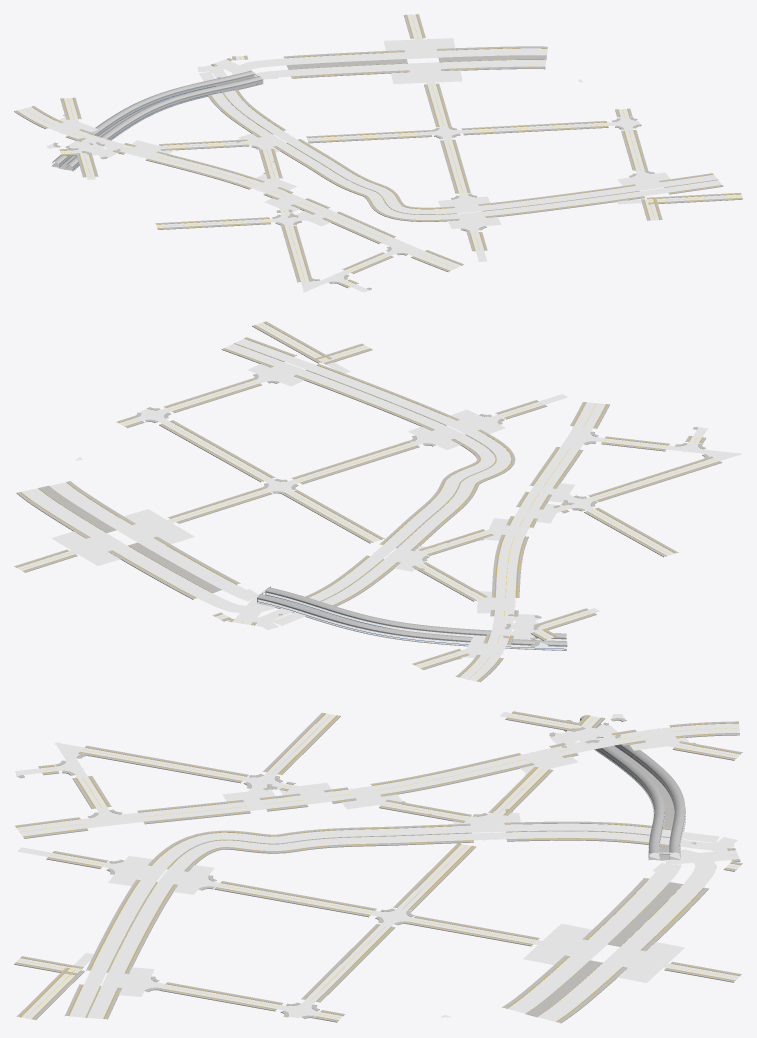
The model's file is roads_1_-1.gltf.
3 views of the same model, one above another, from view 1: azimuth 30°, elevation 25°; view 2: azimuth 150°, elevation 25°; view 3: azimuth 270°, elevation 25° (orthographic). The views are drawn at different scales.
Parts seen in each view (by area): view 1: roads_1_-1_SH_wet_asphalt, roads_1_-1_SH_sidewalk, roads_1_-1_SH_kerb, roads_1_-1_Road_Tactile_Strip, roads_1_-1_Road_Tunnel_Dark, roads_1_-1_SH_road_marking_white, roads_1_-1_Road_Tunnel_Enamel, roads_1_-1_SH_road_marking_yellow; view 2: roads_1_-1_SH_wet_asphalt, roads_1_-1_SH_sidewalk, roads_1_-1_SH_kerb, roads_1_-1_Road_Tactile_Strip, roads_1_-1_Road_Tunnel_Dark, roads_1_-1_Road_Tunnel_Enamel, roads_1_-1_SH_road_marking_white, roads_1_-1_SH_road_marking_yellow; view 3: roads_1_-1_SH_wet_asphalt, roads_1_-1_SH_sidewalk, roads_1_-1_SH_kerb, roads_1_-1_Road_Tactile_Strip, roads_1_-1_Road_Tunnel_Dark, roads_1_-1_SH_road_marking_white, roads_1_-1_SH_road_marking_yellow, roads_1_-1_Road_Tunnel_Enamel.
Part boxes in pixels (bbox=[...]): roads_1_-1_SH_wet_asphalt: bbox=[17, 14, 742, 292]; roads_1_-1_SH_sidewalk: bbox=[14, 14, 742, 289]; roads_1_-1_SH_kerb: bbox=[18, 14, 742, 289]; roads_1_-1_Road_Tactile_Strip: bbox=[16, 14, 742, 286]; roads_1_-1_Road_Tunnel_Dark: bbox=[52, 70, 262, 170]; roads_1_-1_SH_road_marking_white: bbox=[21, 15, 741, 292]; roads_1_-1_Road_Tunnel_Enamel: bbox=[52, 75, 262, 170]; roads_1_-1_SH_road_marking_yellow: bbox=[25, 15, 740, 285]; roads_1_-1_SH_wet_asphalt: bbox=[17, 322, 741, 681]; roads_1_-1_SH_sidewalk: bbox=[14, 321, 722, 682]; roads_1_-1_SH_kerb: bbox=[16, 322, 719, 681]; roads_1_-1_Road_Tactile_Strip: bbox=[16, 322, 719, 681]; roads_1_-1_Road_Tunnel_Dark: bbox=[257, 587, 567, 650]; roads_1_-1_Road_Tunnel_Enamel: bbox=[257, 593, 566, 649]; roads_1_-1_SH_road_marking_white: bbox=[21, 325, 740, 679]; roads_1_-1_SH_road_marking_yellow: bbox=[20, 323, 716, 679]; roads_1_-1_SH_wet_asphalt: bbox=[15, 712, 740, 1021]; roads_1_-1_SH_sidewalk: bbox=[14, 711, 742, 1023]; roads_1_-1_SH_kerb: bbox=[16, 713, 740, 1021]; roads_1_-1_Road_Tactile_Strip: bbox=[16, 712, 741, 1021]; roads_1_-1_Road_Tunnel_Dark: bbox=[566, 715, 685, 860]; roads_1_-1_SH_road_marking_white: bbox=[16, 713, 739, 1021]; roads_1_-1_SH_road_marking_yellow: bbox=[18, 715, 738, 1018]; roads_1_-1_Road_Tunnel_Enamel: bbox=[580, 720, 685, 859].
Size of what is drawn, in the model's own units: 530 by 16.22 by 520.
